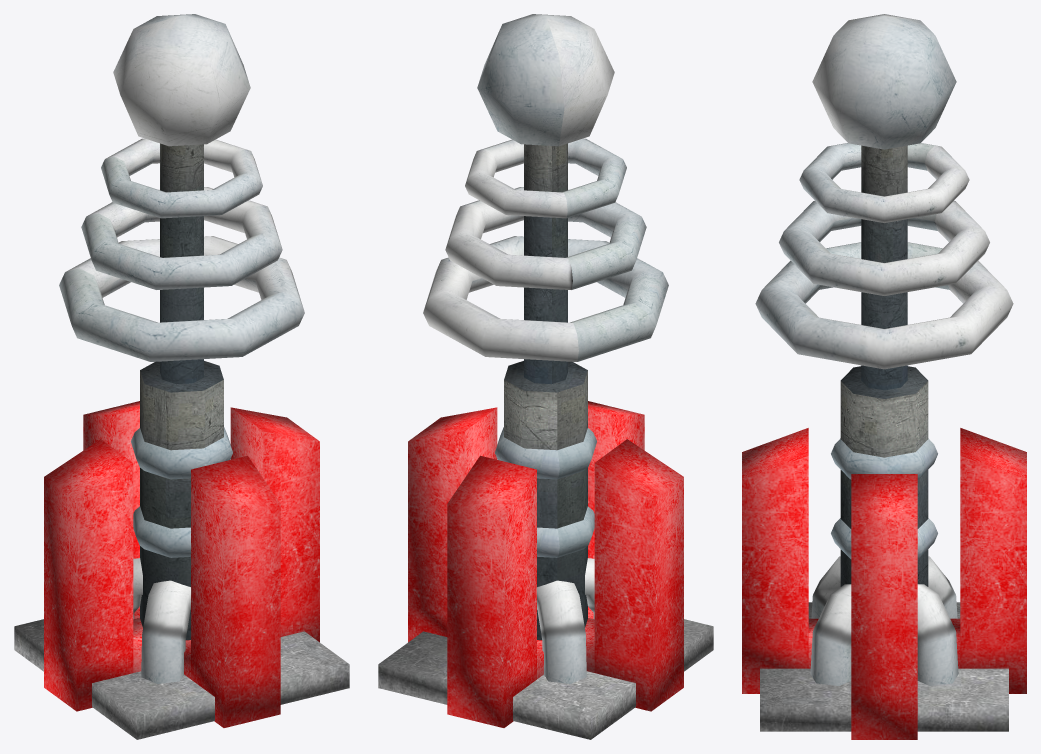
File: tesla coil.fbx
The picture shows the model from 3 angles, left to right: view 1: azimuth 30°, elevation 25°; view 2: azimuth 150°, elevation 25°; view 3: azimuth 270°, elevation 25°; orthographic projection.
Visible parts, largest first — view 1: Circle; view 2: Circle; view 3: Circle.
Boxes of the visible parts, box(x1,y1,x2,y2) form: Circle: box(14, 14, 349, 739); Circle: box(378, 14, 713, 739); Circle: box(742, 14, 1026, 739).
Bounding box in the file's own units: 1.55 × 3.97 × 1.55.
